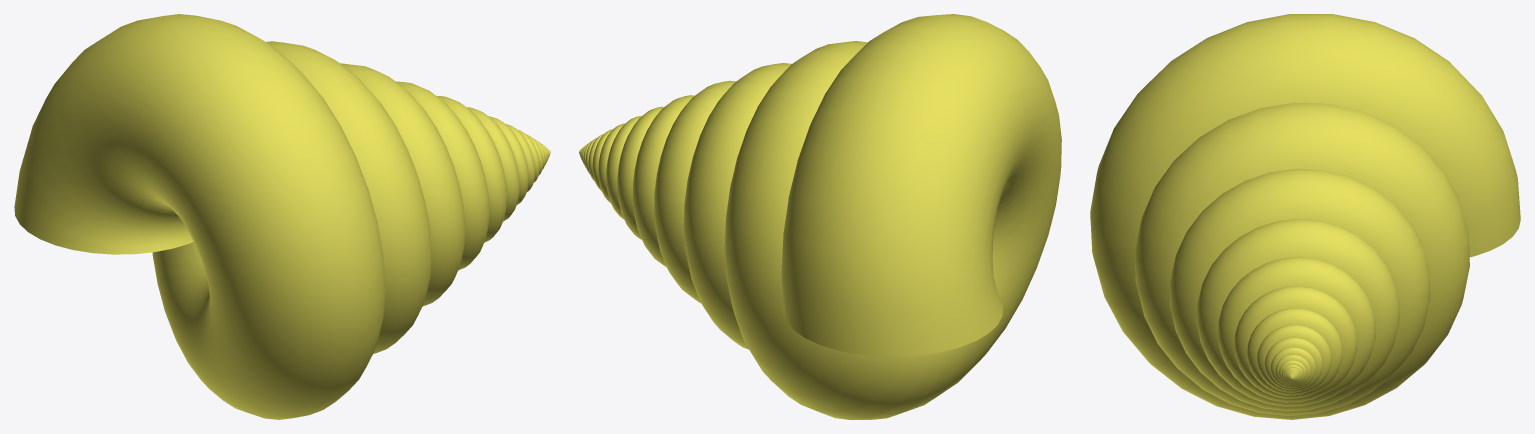
3 renders of one model, left to right at view 1: azimuth 30°, elevation 25°; view 2: azimuth 150°, elevation 25°; view 3: azimuth 270°, elevation 25°, orthographic. The views are drawn at different scales.
Visible parts, largest first — view 1: t22; view 2: t22; view 3: t22.
Part boxes in pixels (<box>): t22: <box>14,14,550,419</box>; t22: <box>579,14,1061,419</box>; t22: <box>1090,14,1520,419</box>.
Size of the model in its own units: 500 by 393 by 417.
